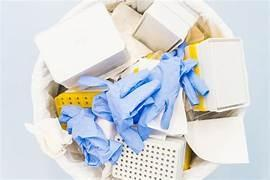Glove: (79, 70, 159, 152), (59, 106, 121, 166), (139, 46, 183, 128), (180, 59, 208, 105)
